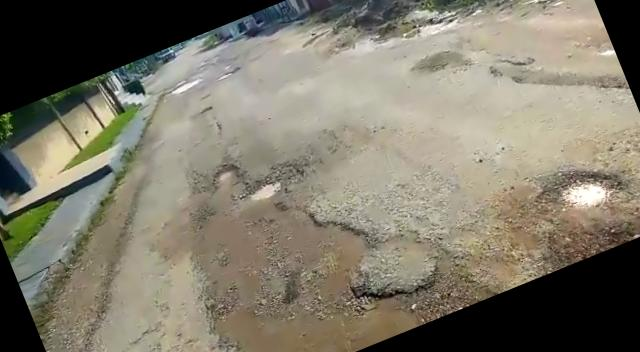pothole: (539, 154, 631, 222), (241, 156, 309, 210), (206, 158, 245, 191)
